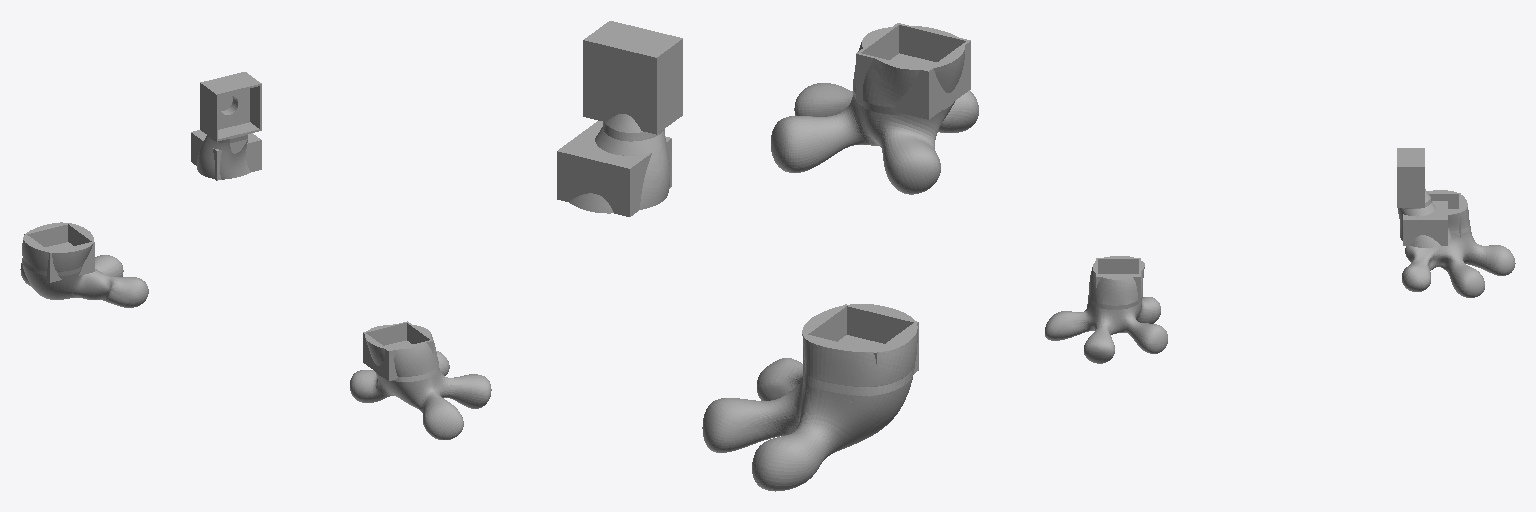
robot.urdf — FrogBot1_top-FrogBot1-x-1_bottom-FrogBot1-x-1:
<?xml version="1.0" ?>
<robot name="FrogBot1_top-FrogBot1-x-1_bottom-FrogBot1-x-1">

<material name="pla_5_percent_infill">
  <color rgba="0.700 0.700 0.700 1.000"/>
</material>

<link name="base_link">
  <inertial>
    <origin xyz="0 0 0" rpy="0 0 0"/>
    <mass value="1.4103143072721238"/>
    <inertia ixx="0.004671865419262023" iyy="0.01102984328633242" izz="0.011972094032648898" ixy="0.00015185420958179873" iyz="8.583160306759328e-05" ixz="-0.0012132770853355082"/>
  </inertial>
  <visual>
    <origin xyz="0 0 0" rpy="0 0 0"/>
    <geometry>
      <mesh filename="simple_meshes/base_link.stl" scale="0.001 0.001 0.001"/>
    </geometry>
    <material name="pla_5_percent_infill"/>
  </visual>
  <collision>
    <origin xyz="0 0 0" rpy="0 0 0"/>
    <geometry>
      <mesh filename="simple_meshes/base_link.stl" scale="0.001 0.001 0.001"/>
    </geometry>
  </collision>
</link>

<link name="body_1_0_1">
  <inertial>
    <origin xyz="-0.045735 -0.109621 -0.00462" rpy="0 0 0"/>
    <mass value="0.03286634630040116"/>
    <inertia ixx="2.5229050125807895e-05" iyy="2.731761474388707e-05" izz="1.311707888712794e-05" ixy="-3.9432955190859945e-07" iyz="2.1990955850569835e-06" ixz="4.126824737397483e-07"/>
  </inertial>
  <visual>
    <origin xyz="-0.045735 -0.109621 -0.00462" rpy="0 0 0"/>
    <geometry>
      <mesh filename="simple_meshes/body_1_0_1.stl" scale="0.001 0.001 0.001"/>
    </geometry>
    <material name="pla_5_percent_infill"/>
  </visual>
  <collision>
    <origin xyz="-0.045735 -0.109621 -0.00462" rpy="0 0 0"/>
    <geometry>
      <mesh filename="simple_meshes/body_1_0_1.stl" scale="0.001 0.001 0.001"/>
    </geometry>
  </collision>
</link>

<link name="body_1_1_1">
  <inertial>
    <origin xyz="0.086489 -0.109621 -0.018802" rpy="0 0 0"/>
    <mass value="0.05738210249969858"/>
    <inertia ixx="5.1571843343601155e-05" iyy="5.907697108145746e-05" izz="3.663544348108706e-05" ixy="5.643125175754582e-06" iyz="1.0115876784554513e-05" ixz="-1.5740932130479907e-05"/>
  </inertial>
  <visual>
    <origin xyz="0.086489 -0.109621 -0.018802" rpy="0 0 0"/>
    <geometry>
      <mesh filename="simple_meshes/body_1_1_1.stl" scale="0.001 0.001 0.001"/>
    </geometry>
    <material name="pla_5_percent_infill"/>
  </visual>
  <collision>
    <origin xyz="0.086489 -0.109621 -0.018802" rpy="0 0 0"/>
    <geometry>
      <mesh filename="simple_meshes/body_1_1_1.stl" scale="0.001 0.001 0.001"/>
    </geometry>
  </collision>
</link>

<link name="body_1_2_1">
  <inertial>
    <origin xyz="-0.040267 0.109621 -0.027764" rpy="0 0 0"/>
    <mass value="0.04454907622151763"/>
    <inertia ixx="5.376029785065443e-05" iyy="5.315587680409713e-05" izz="2.0673900967313258e-05" ixy="5.513626860613615e-07" iyz="-1.0544950929351226e-05" ixz="-1.6228968024266981e-07"/>
  </inertial>
  <visual>
    <origin xyz="-0.040267 0.109621 -0.027764" rpy="0 0 0"/>
    <geometry>
      <mesh filename="simple_meshes/body_1_2_1.stl" scale="0.001 0.001 0.001"/>
    </geometry>
    <material name="pla_5_percent_infill"/>
  </visual>
  <collision>
    <origin xyz="-0.040267 0.109621 -0.027764" rpy="0 0 0"/>
    <geometry>
      <mesh filename="simple_meshes/body_1_2_1.stl" scale="0.001 0.001 0.001"/>
    </geometry>
  </collision>
</link>

<link name="body_1_3_1">
  <inertial>
    <origin xyz="0.090407 0.109621 -0.022193" rpy="0 0 0"/>
    <mass value="0.05975974116267476"/>
    <inertia ixx="5.778774749644897e-05" iyy="6.75699444046083e-05" izz="4.163775477368818e-05" ixy="-7.024430975431997e-06" iyz="-1.2397721316908123e-05" ixz="-1.9187094542814134e-05"/>
  </inertial>
  <visual>
    <origin xyz="0.090407 0.109621 -0.022193" rpy="0 0 0"/>
    <geometry>
      <mesh filename="simple_meshes/body_1_3_1.stl" scale="0.001 0.001 0.001"/>
    </geometry>
    <material name="pla_5_percent_infill"/>
  </visual>
  <collision>
    <origin xyz="0.090407 0.109621 -0.022193" rpy="0 0 0"/>
    <geometry>
      <mesh filename="simple_meshes/body_1_3_1.stl" scale="0.001 0.001 0.001"/>
    </geometry>
  </collision>
</link>

<link name="body_2_0_1">
  <inertial>
    <origin xyz="-0.049562 -0.159797 0.080064" rpy="0 0 0"/>
    <mass value="0.08729981167577604"/>
    <inertia ixx="8.828043285973204e-05" iyy="9.718226004565723e-05" izz="0.00012609136710835895" ixy="-4.688024284531071e-06" iyz="-1.1992025267383404e-06" ixz="2.040948867946602e-05"/>
  </inertial>
  <visual>
    <origin xyz="-0.049562 -0.159797 0.080064" rpy="0 0 0"/>
    <geometry>
      <mesh filename="simple_meshes/body_2_0_1.stl" scale="0.001 0.001 0.001"/>
    </geometry>
    <material name="pla_5_percent_infill"/>
  </visual>
  <collision>
    <origin xyz="-0.049562 -0.159797 0.080064" rpy="0 0 0"/>
    <geometry>
      <mesh filename="simple_meshes/body_2_0_1.stl" scale="0.001 0.001 0.001"/>
    </geometry>
  </collision>
</link>

<link name="body_2_1_1">
  <inertial>
    <origin xyz="0.121182 -0.173952 0.080064" rpy="0 0 0"/>
    <mass value="0.09113578283445255"/>
    <inertia ixx="9.159480147978745e-05" iyy="9.695579340333015e-05" izz="0.00012746715270344888" ixy="2.5058413119683105e-06" iyz="1.2656341828797685e-05" ixz="2.485497303758642e-05"/>
  </inertial>
  <visual>
    <origin xyz="0.121182 -0.173952 0.080064" rpy="0 0 0"/>
    <geometry>
      <mesh filename="simple_meshes/body_2_1_1.stl" scale="0.001 0.001 0.001"/>
    </geometry>
    <material name="pla_5_percent_infill"/>
  </visual>
  <collision>
    <origin xyz="0.121182 -0.173952 0.080064" rpy="0 0 0"/>
    <geometry>
      <mesh filename="simple_meshes/body_2_1_1.stl" scale="0.001 0.001 0.001"/>
    </geometry>
  </collision>
</link>

<link name="body_2_2_1">
  <inertial>
    <origin xyz="-0.04311 0.170506 0.080064" rpy="0 0 0"/>
    <mass value="0.08896007007354793"/>
    <inertia ixx="9.741165124447105e-05" iyy="8.90912637130899e-05" izz="0.00012917842905626207" ixy="8.763925109786042e-07" iyz="-5.848285813569998e-06" ixz="1.4243731046279656e-05"/>
  </inertial>
  <visual>
    <origin xyz="-0.04311 0.170506 0.080064" rpy="0 0 0"/>
    <geometry>
      <mesh filename="simple_meshes/body_2_2_1.stl" scale="0.001 0.001 0.001"/>
    </geometry>
    <material name="pla_5_percent_infill"/>
  </visual>
  <collision>
    <origin xyz="-0.04311 0.170506 0.080064" rpy="0 0 0"/>
    <geometry>
      <mesh filename="simple_meshes/body_2_2_1.stl" scale="0.001 0.001 0.001"/>
    </geometry>
  </collision>
</link>

<link name="body_2_3_1">
  <inertial>
    <origin xyz="0.129712 0.175384 0.080064" rpy="0 0 0"/>
    <mass value="0.08942773147587926"/>
    <inertia ixx="9.827831066788837e-05" iyy="9.128731038756744e-05" izz="0.00011846722642196248" ixy="4.177712751278961e-06" iyz="-1.8317292394110993e-05" ixz="2.4733209515839447e-05"/>
  </inertial>
  <visual>
    <origin xyz="0.129712 0.175384 0.080064" rpy="0 0 0"/>
    <geometry>
      <mesh filename="simple_meshes/body_2_3_1.stl" scale="0.001 0.001 0.001"/>
    </geometry>
    <material name="pla_5_percent_infill"/>
  </visual>
  <collision>
    <origin xyz="0.129712 0.175384 0.080064" rpy="0 0 0"/>
    <geometry>
      <mesh filename="simple_meshes/body_2_3_1.stl" scale="0.001 0.001 0.001"/>
    </geometry>
  </collision>
</link>

<joint name="joint_1_0" type="revolute">
  <origin xyz="0.045735 0.109621 0.00462" rpy="0 0 0"/>
  <parent link="base_link"/>
  <child link="body_1_0_1"/>
  <axis xyz="1.0 0.0 0.0"/>
  <limit upper="1.2" lower="-1.2" effort="3.8" velocity="5.4"/>
</joint>
<transmission name="joint_1_0_tran">
  <type>transmission_interface/SimpleTransmission</type>
  <joint name="joint_1_0">
    <hardwareInterface>PositionJointInterface</hardwareInterface>
  </joint>
  <actuator name="joint_1_0_actr">
    <hardwareInterface>PositionJointInterface</hardwareInterface>
    <mechanicalReduction>1</mechanicalReduction>
  </actuator>
</transmission>

<joint name="joint_1_1" type="revolute">
  <origin xyz="-0.086489 0.109621 0.018802" rpy="0 0 0"/>
  <parent link="base_link"/>
  <child link="body_1_1_1"/>
  <axis xyz="1.0 0.0 0.0"/>
  <limit upper="1.2" lower="-1.2" effort="3.8" velocity="5.4"/>
</joint>
<transmission name="joint_1_1_tran">
  <type>transmission_interface/SimpleTransmission</type>
  <joint name="joint_1_1">
    <hardwareInterface>PositionJointInterface</hardwareInterface>
  </joint>
  <actuator name="joint_1_1_actr">
    <hardwareInterface>PositionJointInterface</hardwareInterface>
    <mechanicalReduction>1</mechanicalReduction>
  </actuator>
</transmission>

<joint name="joint_1_2" type="revolute">
  <origin xyz="0.040267 -0.109621 0.027764" rpy="0 0 0"/>
  <parent link="base_link"/>
  <child link="body_1_2_1"/>
  <axis xyz="1.0 0.0 0.0"/>
  <limit upper="1.2" lower="-1.2" effort="3.8" velocity="5.4"/>
</joint>
<transmission name="joint_1_2_tran">
  <type>transmission_interface/SimpleTransmission</type>
  <joint name="joint_1_2">
    <hardwareInterface>PositionJointInterface</hardwareInterface>
  </joint>
  <actuator name="joint_1_2_actr">
    <hardwareInterface>PositionJointInterface</hardwareInterface>
    <mechanicalReduction>1</mechanicalReduction>
  </actuator>
</transmission>

<joint name="joint_1_3" type="revolute">
  <origin xyz="-0.090407 -0.109621 0.022193" rpy="0 0 0"/>
  <parent link="base_link"/>
  <child link="body_1_3_1"/>
  <axis xyz="1.0 0.0 0.0"/>
  <limit upper="1.2" lower="-1.2" effort="3.8" velocity="5.4"/>
</joint>
<transmission name="joint_1_3_tran">
  <type>transmission_interface/SimpleTransmission</type>
  <joint name="joint_1_3">
    <hardwareInterface>PositionJointInterface</hardwareInterface>
  </joint>
  <actuator name="joint_1_3_actr">
    <hardwareInterface>PositionJointInterface</hardwareInterface>
    <mechanicalReduction>1</mechanicalReduction>
  </actuator>
</transmission>

<joint name="joint_2_0" type="revolute">
  <origin xyz="0.003827 0.050176 -0.084684" rpy="0 0 0"/>
  <parent link="body_1_0_1"/>
  <child link="body_2_0_1"/>
  <axis xyz="1.0 0.0 0.0"/>
  <limit upper="1.2" lower="-1.2" effort="3.8" velocity="5.4"/>
</joint>
<transmission name="joint_2_0_tran">
  <type>transmission_interface/SimpleTransmission</type>
  <joint name="joint_2_0">
    <hardwareInterface>PositionJointInterface</hardwareInterface>
  </joint>
  <actuator name="joint_2_0_actr">
    <hardwareInterface>PositionJointInterface</hardwareInterface>
    <mechanicalReduction>1</mechanicalReduction>
  </actuator>
</transmission>

<joint name="joint_2_1" type="revolute">
  <origin xyz="-0.034693 0.064331 -0.098866" rpy="0 0 0"/>
  <parent link="body_1_1_1"/>
  <child link="body_2_1_1"/>
  <axis xyz="1.0 0.0 0.0"/>
  <limit upper="1.2" lower="-1.2" effort="3.8" velocity="5.4"/>
</joint>
<transmission name="joint_2_1_tran">
  <type>transmission_interface/SimpleTransmission</type>
  <joint name="joint_2_1">
    <hardwareInterface>PositionJointInterface</hardwareInterface>
  </joint>
  <actuator name="joint_2_1_actr">
    <hardwareInterface>PositionJointInterface</hardwareInterface>
    <mechanicalReduction>1</mechanicalReduction>
  </actuator>
</transmission>

<joint name="joint_2_2" type="revolute">
  <origin xyz="0.002843 -0.060885 -0.107828" rpy="0 0 0"/>
  <parent link="body_1_2_1"/>
  <child link="body_2_2_1"/>
  <axis xyz="1.0 0.0 0.0"/>
  <limit upper="1.2" lower="-1.2" effort="3.8" velocity="5.4"/>
</joint>
<transmission name="joint_2_2_tran">
  <type>transmission_interface/SimpleTransmission</type>
  <joint name="joint_2_2">
    <hardwareInterface>PositionJointInterface</hardwareInterface>
  </joint>
  <actuator name="joint_2_2_actr">
    <hardwareInterface>PositionJointInterface</hardwareInterface>
    <mechanicalReduction>1</mechanicalReduction>
  </actuator>
</transmission>

<joint name="joint_2_3" type="revolute">
  <origin xyz="-0.039305 -0.065763 -0.102257" rpy="0 0 0"/>
  <parent link="body_1_3_1"/>
  <child link="body_2_3_1"/>
  <axis xyz="1.0 0.0 0.0"/>
  <limit upper="1.2" lower="-1.2" effort="3.8" velocity="5.4"/>
</joint>
<transmission name="joint_2_3_tran">
  <type>transmission_interface/SimpleTransmission</type>
  <joint name="joint_2_3">
    <hardwareInterface>PositionJointInterface</hardwareInterface>
  </joint>
  <actuator name="joint_2_3_actr">
    <hardwareInterface>PositionJointInterface</hardwareInterface>
    <mechanicalReduction>1</mechanicalReduction>
  </actuator>
</transmission>

</robot>

--- Render facts (derived) ---
3 views of the same robot in one strip: view 1: azimuth 30°, elevation 25°; view 2: azimuth 150°, elevation 25°; view 3: azimuth 270°, elevation 25° (orthographic).
Robot: FrogBot1_top-FrogBot1-x-1_bottom-FrogBot1-x-1 — 9 links, 8 joints (8 revolute); root link base_link; default pose: all joints at 0.
Links seen in each view (by area): view 1: body_2_2_1, body_2_1_1, body_1_0_1; view 2: body_2_1_1, body_2_2_1, body_1_0_1; view 3: body_2_2_1, body_2_1_1, body_1_0_1.
Boxes of the visible links, <box> form: body_2_2_1: <box>350,321,491,439</box>; body_2_1_1: <box>20,222,148,307</box>; body_1_0_1: <box>191,72,261,180</box>; body_2_1_1: <box>702,304,918,491</box>; body_2_2_1: <box>771,23,978,194</box>; body_1_0_1: <box>557,21,682,216</box>; body_2_2_1: <box>1045,256,1167,363</box>; body_2_1_1: <box>1402,190,1515,297</box>; body_1_0_1: <box>1397,148,1451,247</box>.
Bounding box of the posed robot: 0.2827 × 0.5072 × 0.2128 m (x, y, z).
3 mesh visuals loaded from 9 distinct referenced files (3 binary STL); not drawn: 6 (reference not matched to a file when rendering).